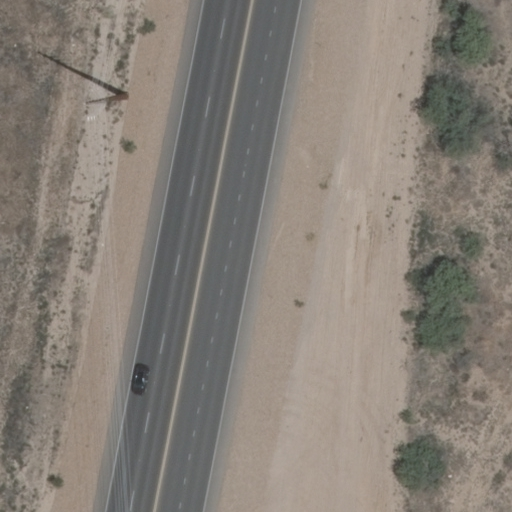DT: (79, 78, 136, 120)
